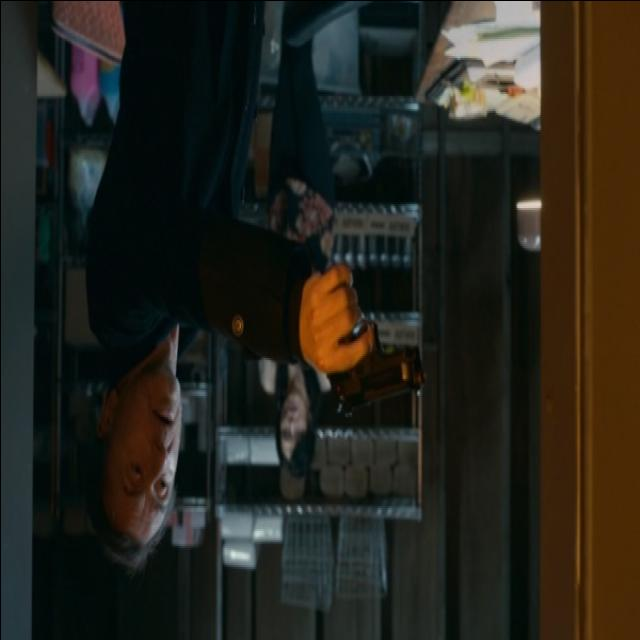weapons: (310, 252, 436, 444)
